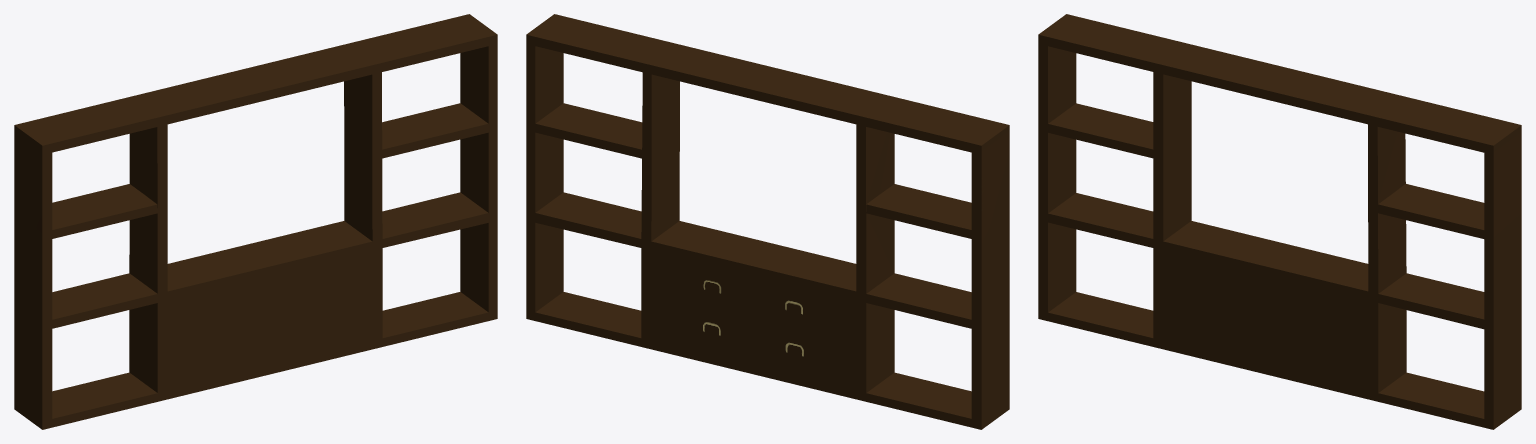
File: bookshelf.fbx
The picture shows the model from 3 angles, left to right: view 1: azimuth 30°, elevation 25°; view 2: azimuth 150°, elevation 25°; view 3: azimuth 330°, elevation 25°; orthographic projection.
Visible parts, largest first — view 1: pCube4; view 2: pCube4; view 3: pCube4.
Part boxes in pixels (<box>): pCube4: <box>14,14,497,429</box>; pCube4: <box>526,14,1009,429</box>; pCube4: <box>1038,14,1521,429</box>.
Bounding box in the file's own units: 15.68 × 1.68 × 9.35.
Materials: 1 (1 with a texture image).
